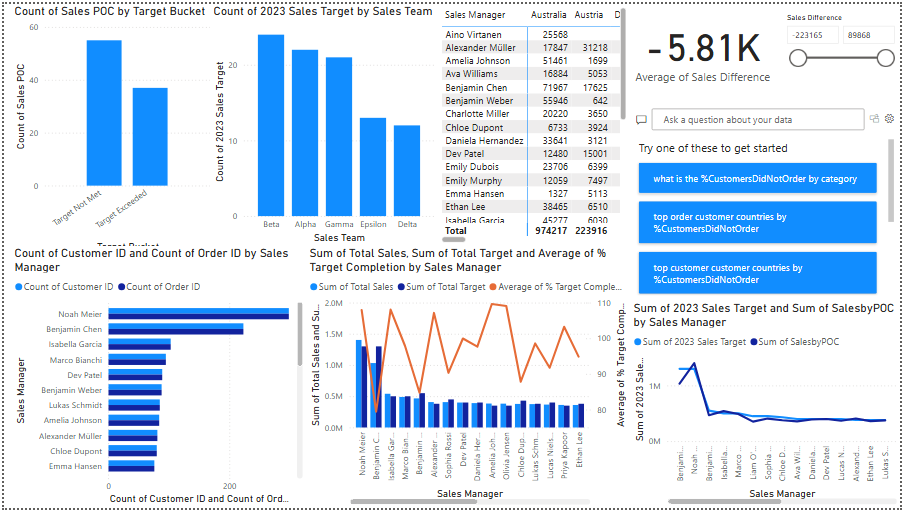

What the dashboard file says about the page in this screenshot:
{"tool":"powerbi","page":{"name":"Sales Team","canvas":[1280,720],"ordinal":0},"visuals":[{"type":"columnChart","fields":{"Category":["Sales Targets.Target Bucket"],"Y":["Sales Targets.Sales POC"]},"box":[10.1,0,290.6,359.5],"z":0},{"type":"columnChart","fields":{"Category":["Sales Targets.Sales Team"],"Y":["Sales Targets.2023 Sales Target"]},"box":[294,0,325.9,346],"z":1000},{"type":"pivotTable","fields":{"Values":["Orders.Order Value"],"Rows":["Sales Manage Target Completion.Sales Manager"],"Columns":["Orders.Customer Country"]},"box":[619.8,0,273.8,346],"z":2001},{"type":"card","fields":{"Values":["Sales Targets.Sales Difference"]},"box":[892,5,213.3,119.3],"z":2002},{"type":"slicer","fields":{"Values":["Sales Targets.Sales Difference"]},"box":[1105.3,6.7,174.7,117.6],"z":2003},{"type":"qnaVisual","box":[893.6,124.3,386.4,300.7],"z":2004},{"type":"clusteredBarChart","fields":{"Category":["Orders.Sales Manager"],"Y":["Orders.Customer ID","Orders.Order ID"]},"box":[10.1,346,421.6,374.6],"z":2005},{"type":"lineClusteredColumnComboChart","fields":{"Category":["Sales Manage Target Completion.Sales Manager"],"Y":["Sales Manage Target Completion.Total Sales","Sales Manage Target Completion.Total Target"],"Y2":["Sales Manage Target Completion.% Target Completion"]},"box":[431.7,346,461.9,374.6],"z":2006},{"type":"lineChart","fields":{"Category":["Sales Targets.Sales Manager"],"Y":["Sales Targets.2023 Sales Target","Sales Targets.SalesbyPOC"]},"box":[893.6,425,386.4,295.6],"z":2007}]}

Visuals, with their boxes in screenshot pixels (x1, y1, x2, y2), scaled from the page's 1280x720 canvas onto the 905x514 screenshot:
columnChart - Sales Targets.Target Bucket x Sales Targets.Sales POC: rect(7, 0, 213, 257)
columnChart - Sales Targets.Sales Team x Sales Targets.2023 Sales Target: rect(208, 0, 438, 247)
pivotTable - Orders.Order Value x Sales Manage Target Completion.Sales Manager: rect(438, 0, 632, 247)
card - Sales Targets.Sales Difference: rect(631, 4, 781, 89)
slicer - Sales Targets.Sales Difference: rect(781, 5, 904, 89)
qnaVisual: rect(632, 89, 904, 303)
clusteredBarChart - Orders.Sales Manager x Orders.Customer ID: rect(7, 247, 305, 513)
lineClusteredColumnComboChart - Sales Manage Target Completion.Sales Manager x Sales Manage Target Completion.Total Sales: rect(305, 247, 632, 513)
lineChart - Sales Targets.Sales Manager x Sales Targets.2023 Sales Target: rect(632, 303, 904, 513)
